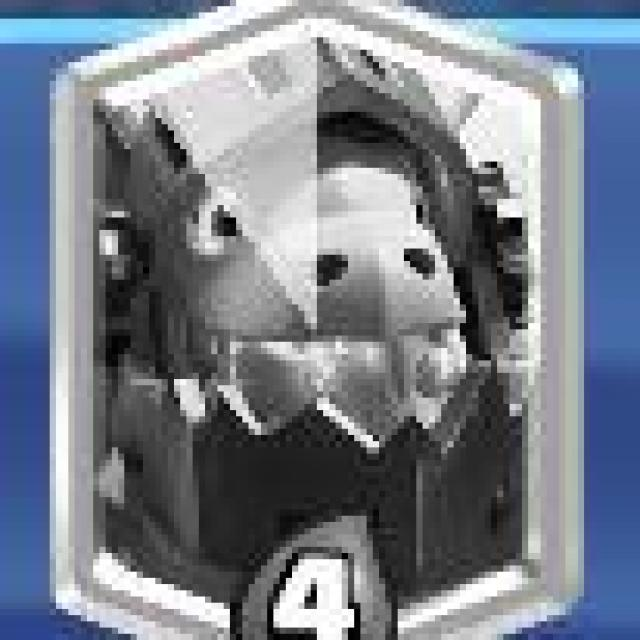Inferno_Dragon: (77, 0, 574, 640)
